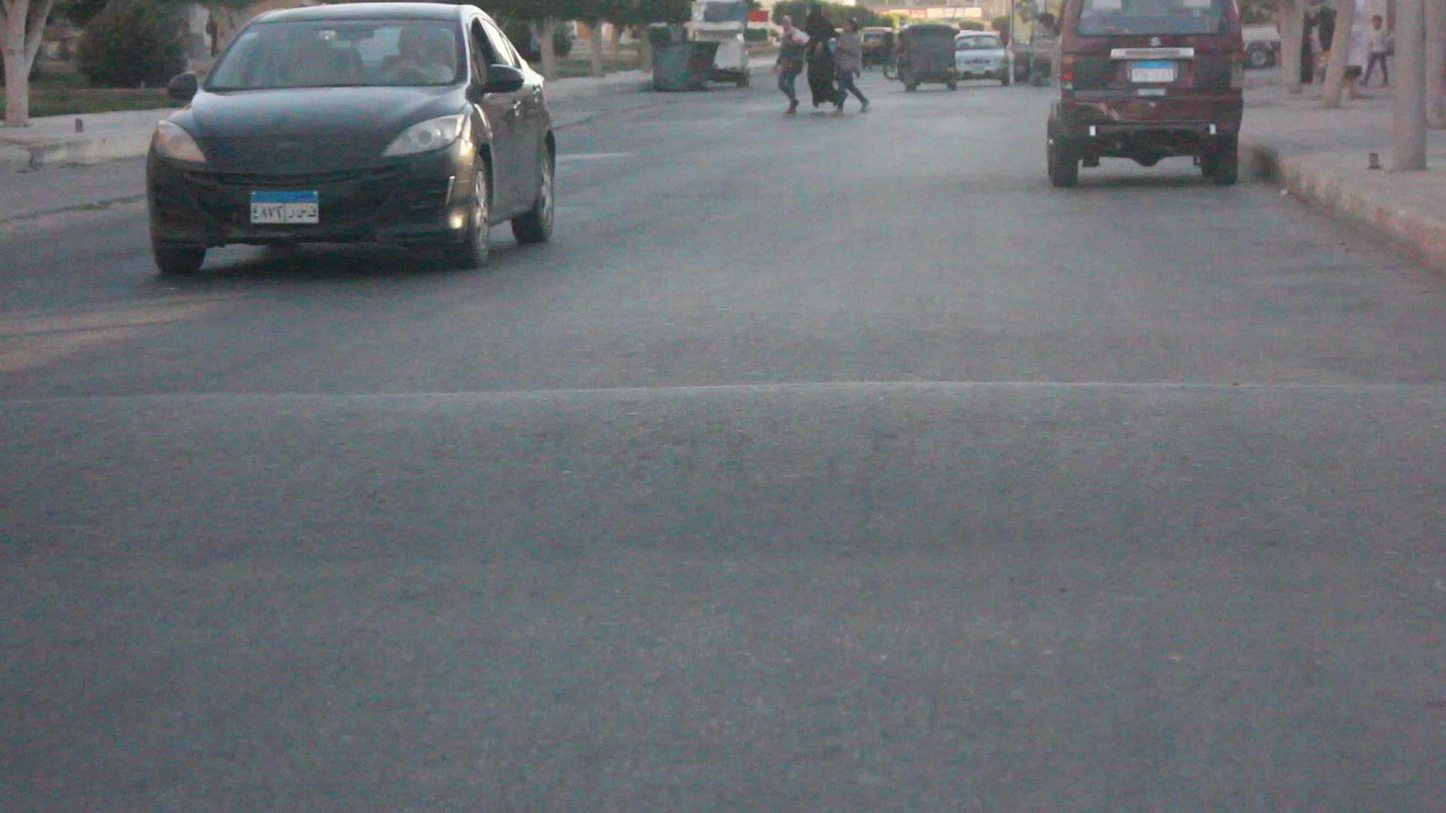Bump: (2, 395, 1446, 568)
